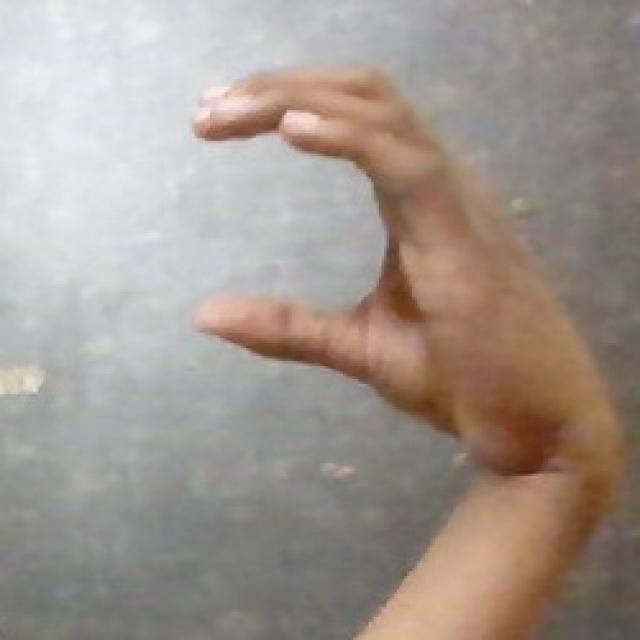Alphabet-C: (173, 42, 532, 416)
